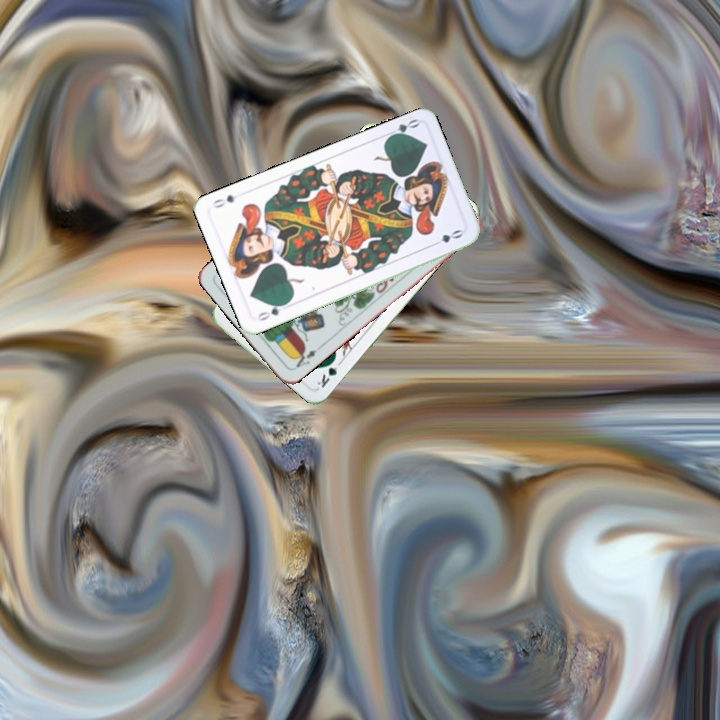EA: (289, 342, 324, 372)
GK: (313, 353, 345, 390)
GO: (382, 115, 422, 141), (253, 298, 290, 323)
